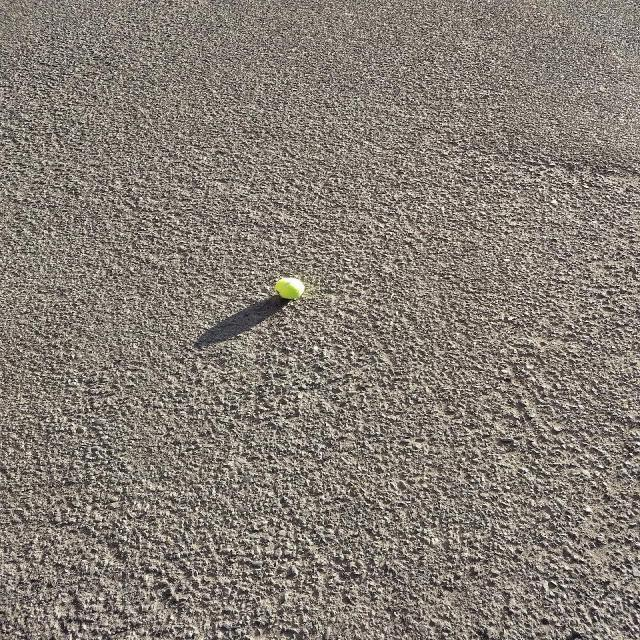tennis-ball: (271, 272, 311, 307)
